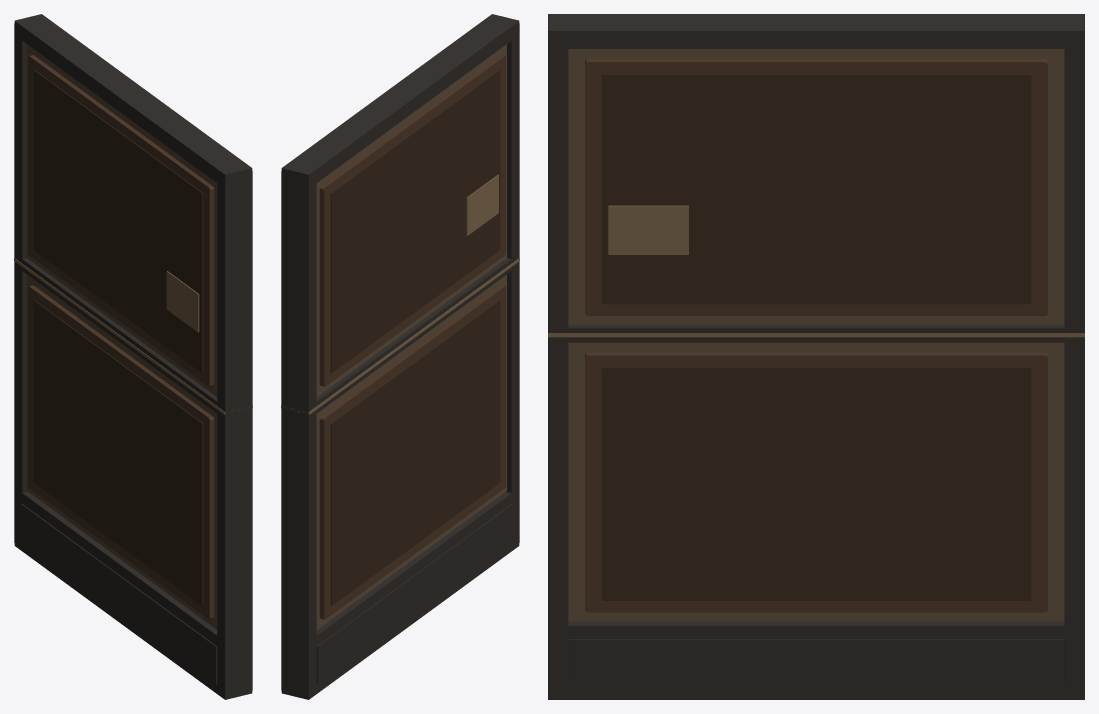
File: tr_baffle.glb
3 views of the same model, side by side, from view 1: azimuth 30°, elevation 25°; view 2: azimuth 150°, elevation 25°; view 3: azimuth 270°, elevation 25° (orthographic). The views are drawn at different scales.
Visible parts, largest first — view 1: tr_baffle; view 2: tr_baffle; view 3: tr_baffle.
Boxes of the visible parts, x1,y1,x2,y2 form: tr_baffle: (14,14,252,699); tr_baffle: (281,14,519,699); tr_baffle: (548,14,1084,699).
Bounding box in the file's own units: 0.148 × 2.2 × 1.6.
